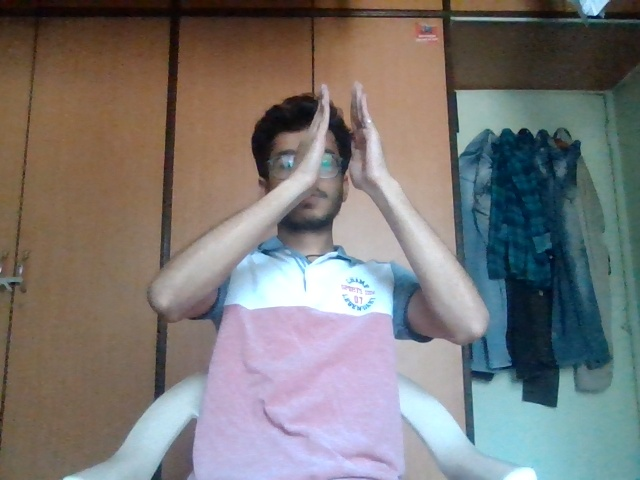morning: (295, 75, 397, 222)
